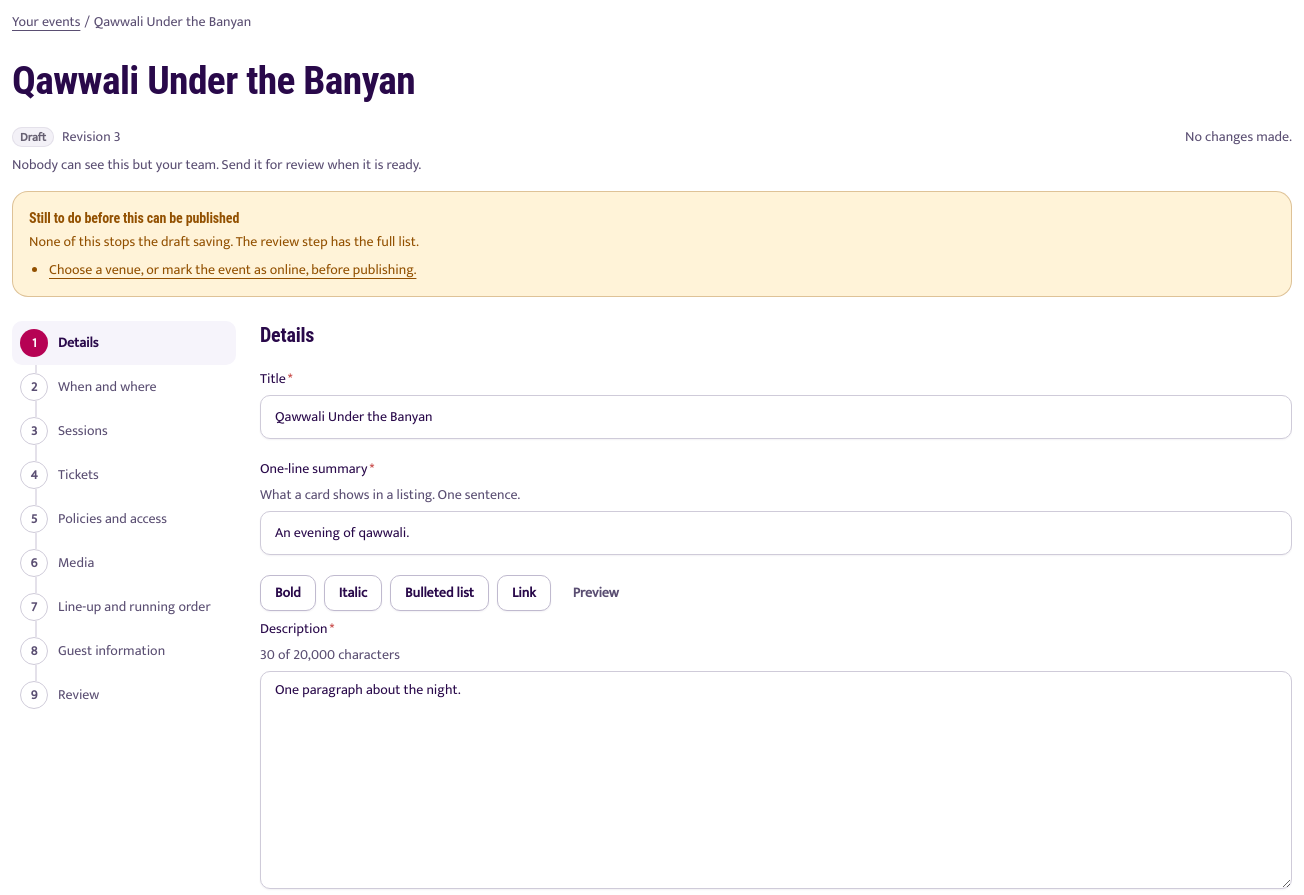
Test case: the Media step on the editor page › shows the failure, and no upload, when the pictures could not be read
This screenshot has width=1304, height=895.
Click the button named "step 6".
click(124, 563)  # box [12,541,236,585]
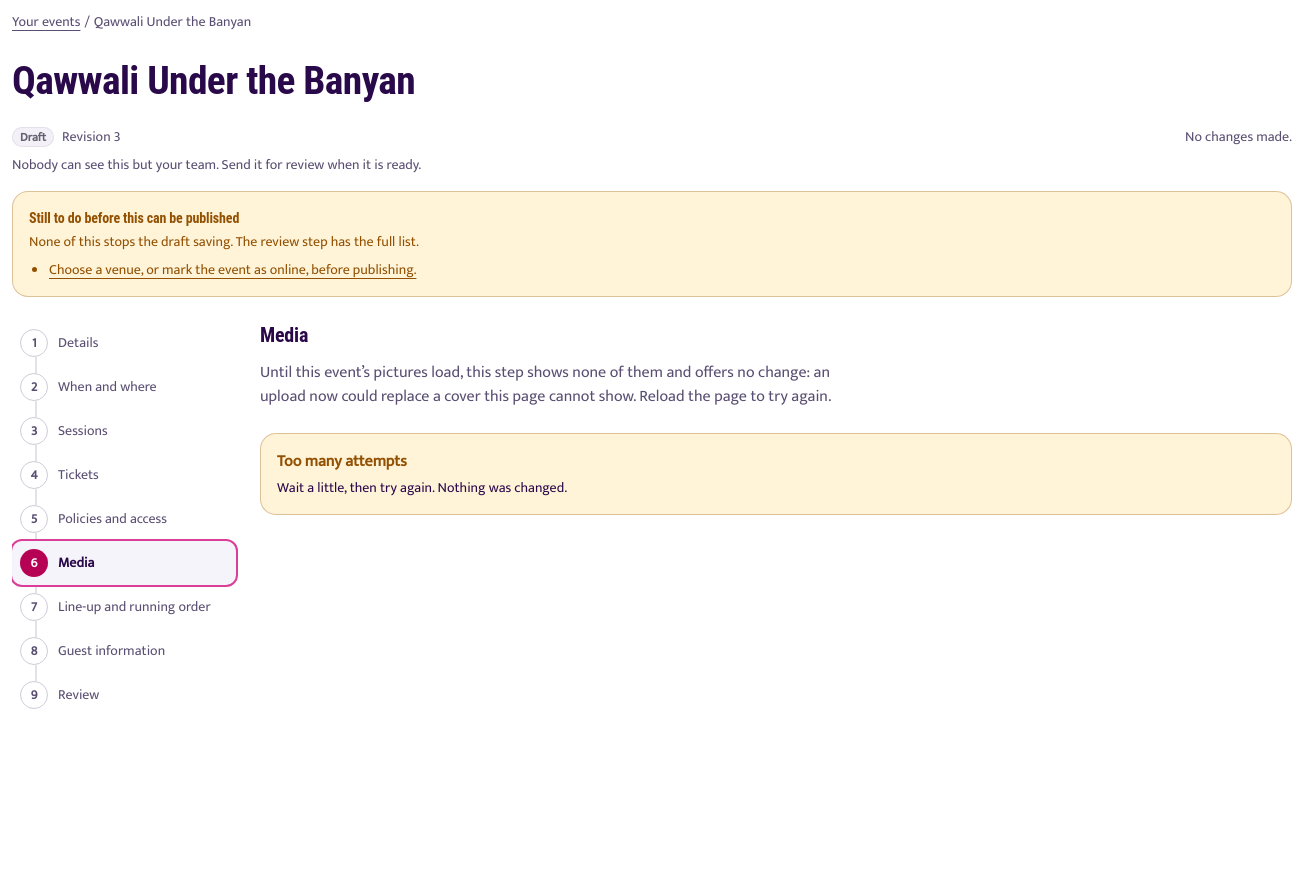
Now the text "Until this event’s pictures load" is shown, box [260,359,831,410]
Now the text "Too many attempts" is shown, box [277,448,407,475]
